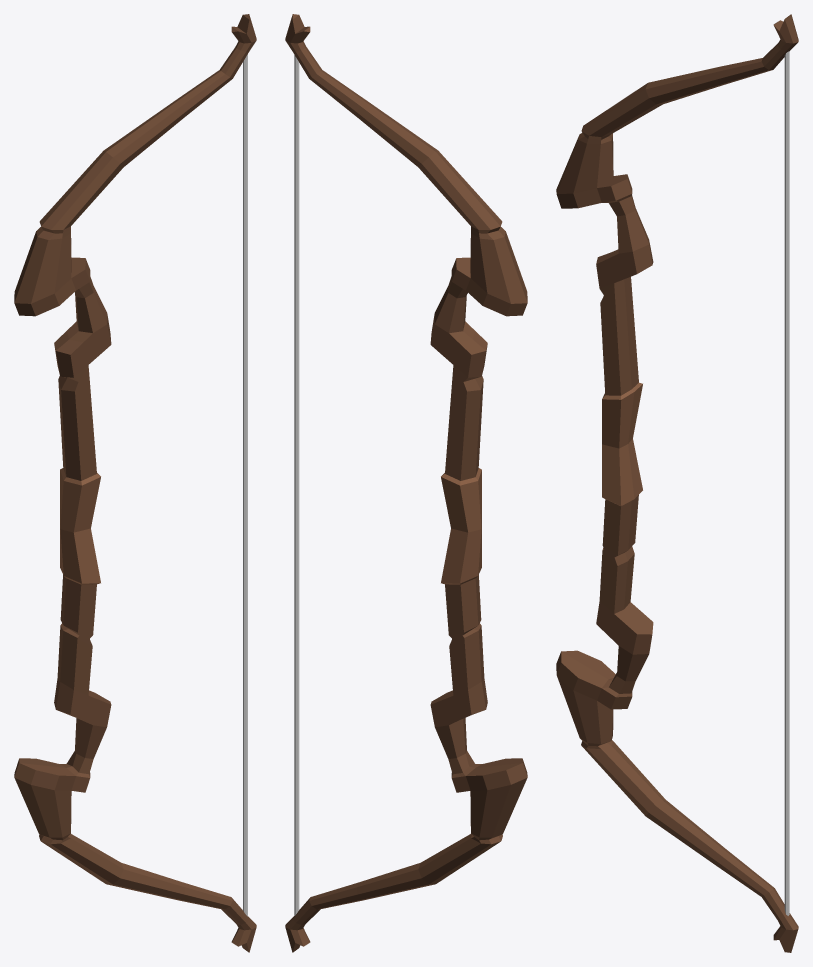
The model's file is Bow_Wooden2.glb.
3 views of the same model, side by side, from view 1: azimuth 30°, elevation 25°; view 2: azimuth 150°, elevation 25°; view 3: azimuth 330°, elevation 25° (orthographic).
Parts seen in each view (by area): view 1: Bow_Wooden2; view 2: Bow_Wooden2; view 3: Bow_Wooden2.
Part boxes in pixels (x1=…): Bow_Wooden2: x1=14, y1=14, x2=256, y2=952; Bow_Wooden2: x1=285, y1=14, x2=527, y2=952; Bow_Wooden2: x1=556, y1=14, x2=798, y2=952.
Bounding box in the file's own units: 1.47 × 5.44 × 0.2436.
